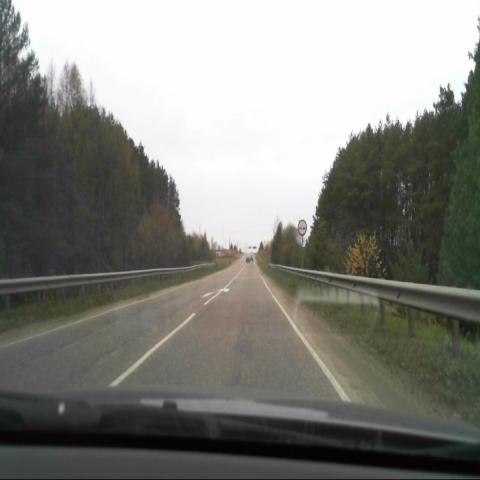3_20: (297, 218, 307, 236)
